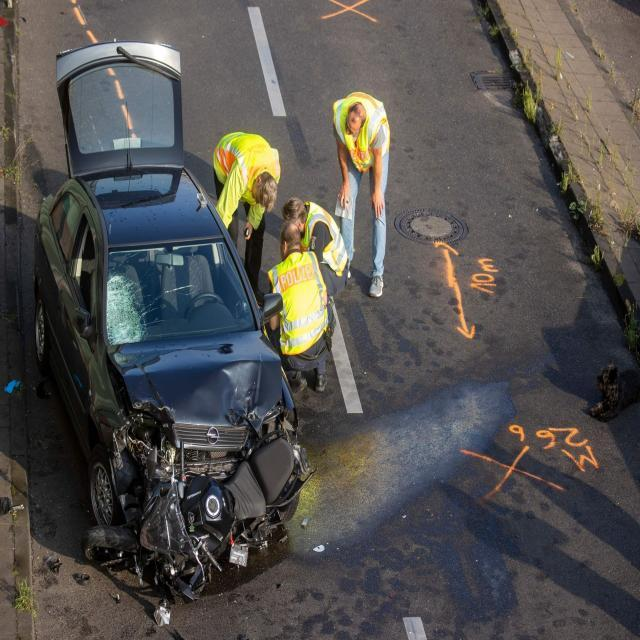accident: (30, 41, 312, 602)
